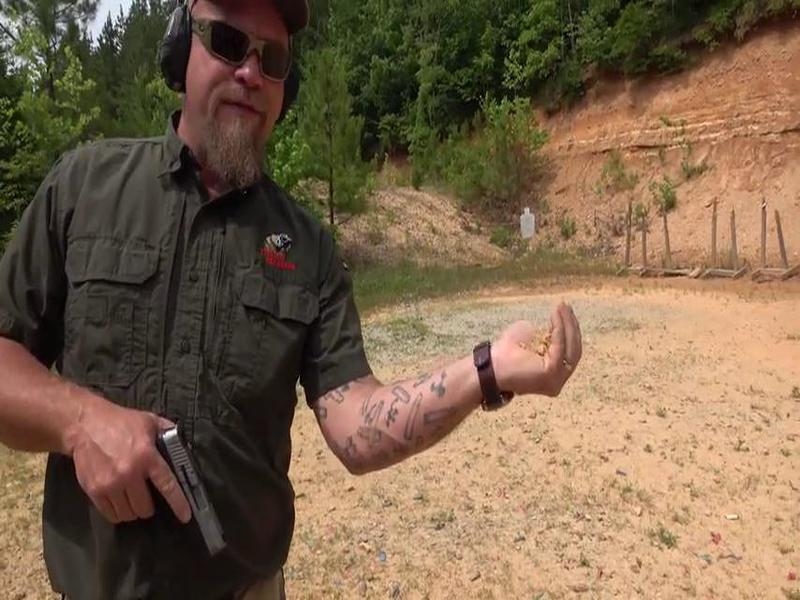Pistola: (137, 415, 244, 563)
Revolver: (140, 421, 237, 564)
